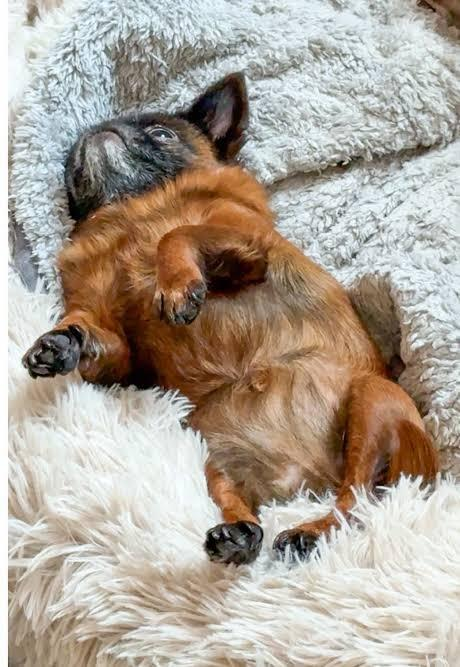adult_dog: (19, 70, 449, 574)
